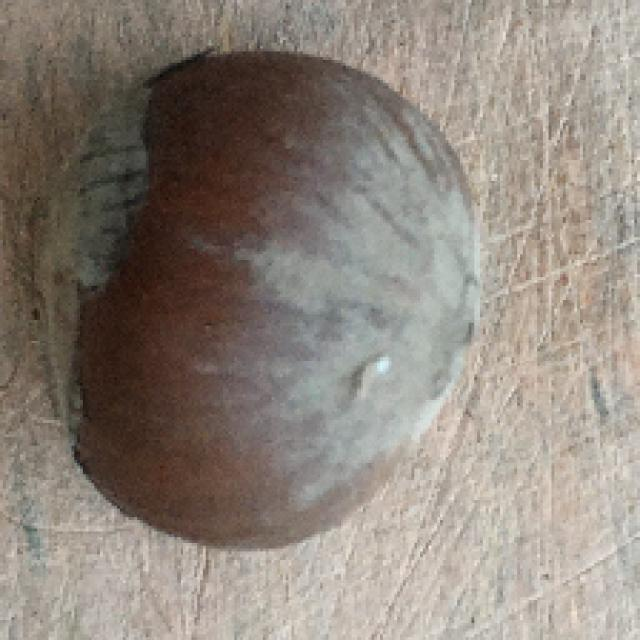damagedHazelnut: (19, 46, 506, 553)
